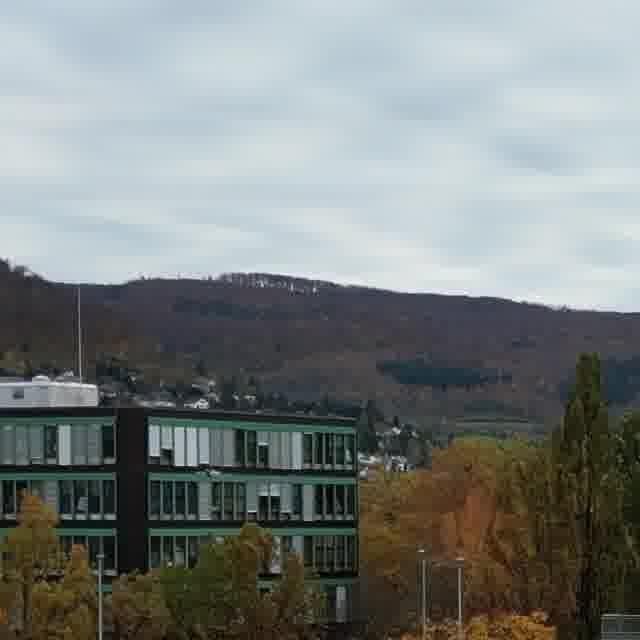Drohne: (196, 466, 221, 478)
